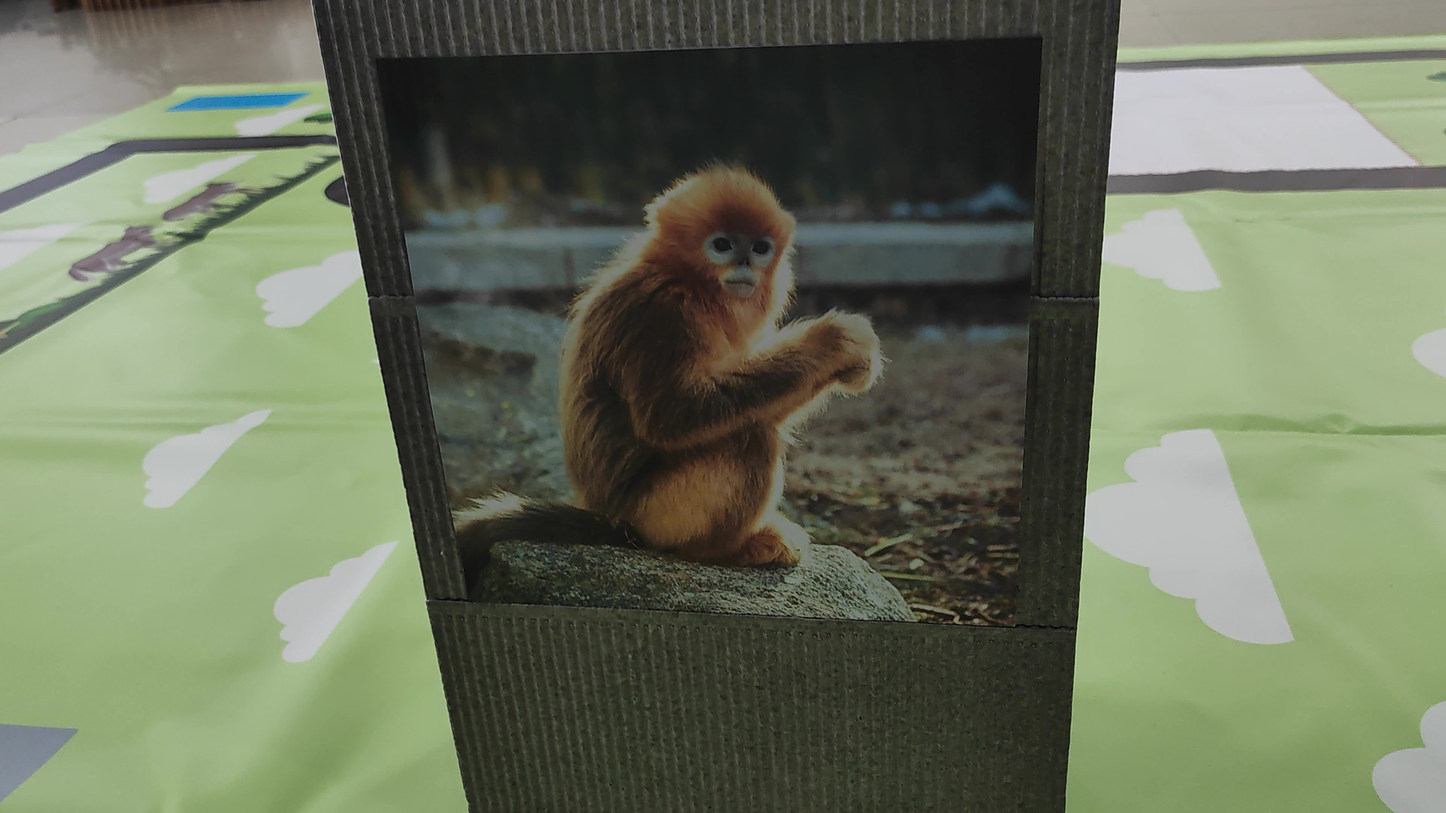monkey: (435, 99, 917, 602)
